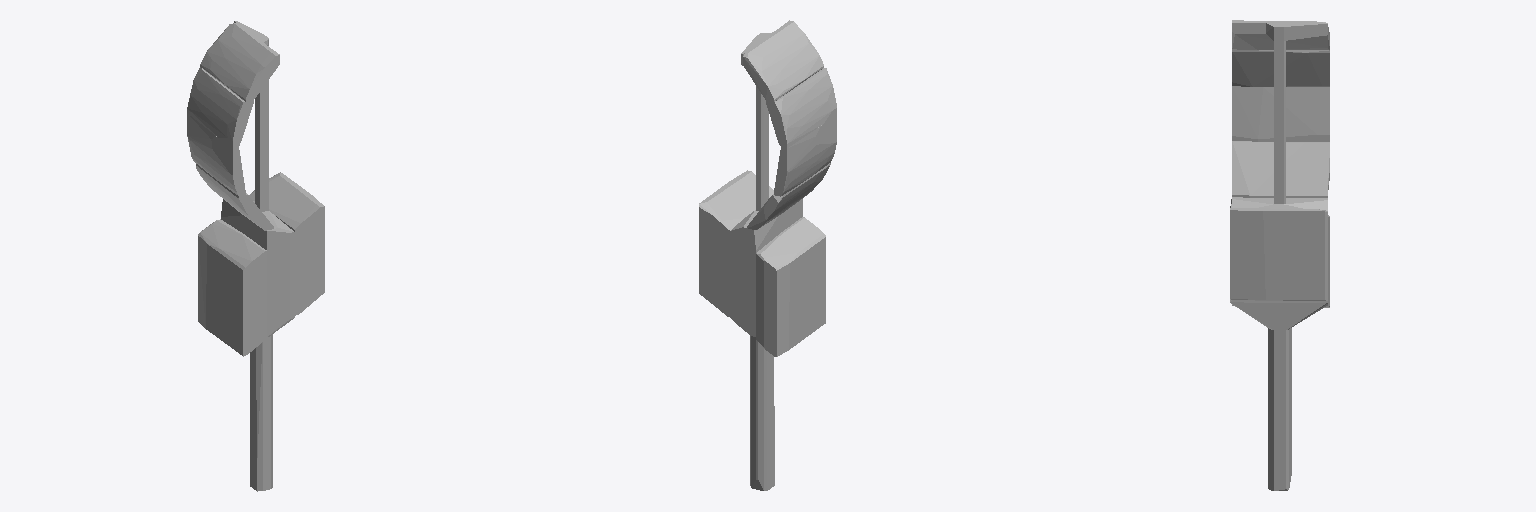
URDF robot description (root):
<robot name="root">
  <link name="link_thingiverse~sail_2488641_convex_piece_0">
    <inertial>
      <origin rpy="0 0 0" xyz="0 0 0"/>
      <mass value="6.11E-02"/>
      <inertia ixx="1.53E-05" ixy="-1.15E-07" ixz="2.05E-06" iyy="1.95E-05" iyz="-1.18E-07" izz="1.83E-05"/>
    </inertial>
    <visual>
      <origin rpy="0 0 0" xyz="0 0 0"/>
      <geometry>
        <mesh filename="thingiverse~sail_2488641_convex_piece_0.obj" scale="1.0000E+00 1.0000E+00 1.0000E+00"/>
      </geometry>
      <material name="">
        <color rgba="7.50E-01 7.50E-01 7.50E-01 1"/>
      </material>
    </visual>
    <collision>
      <origin rpy="0 0 0" xyz="0 0 0"/>
      <geometry>
        <mesh filename="thingiverse~sail_2488641_convex_piece_0.obj" scale="1.0000E+00 1.0000E+00 1.0000E+00"/>
      </geometry>
    </collision>
  </link>
  <link name="link_thingiverse~sail_2488641_convex_piece_1">
    <inertial>
      <origin rpy="0 0 0" xyz="0 0 0"/>
      <mass value="1.20E-02"/>
      <inertia ixx="5.88E-05" ixy="2.75E-10" ixz="-1.29E-06" iyy="5.88E-05" iyz="3.31E-08" izz="1.50E-07"/>
    </inertial>
    <visual>
      <origin rpy="0 0 0" xyz="0 0 0"/>
      <geometry>
        <mesh filename="thingiverse~sail_2488641_convex_piece_1.obj" scale="1.0000E+00 1.0000E+00 1.0000E+00"/>
      </geometry>
      <material name="">
        <color rgba="7.50E-01 7.50E-01 7.50E-01 1"/>
      </material>
    </visual>
    <collision>
      <origin rpy="0 0 0" xyz="0 0 0"/>
      <geometry>
        <mesh filename="thingiverse~sail_2488641_convex_piece_1.obj" scale="1.0000E+00 1.0000E+00 1.0000E+00"/>
      </geometry>
    </collision>
  </link>
  <joint name="link_thingiverse~sail_2488641_convex_piece_1_joint" type="fixed">
    <origin rpy="0 0 0" xyz="0 0 0"/>
    <parent link="link_thingiverse~sail_2488641_convex_piece_0"/>
    <child link="link_thingiverse~sail_2488641_convex_piece_1"/>
  </joint>
  <link name="link_thingiverse~sail_2488641_convex_piece_2">
    <inertial>
      <origin rpy="0 0 0" xyz="0 0 0"/>
      <mass value="4.47E-02"/>
      <inertia ixx="1.68E-05" ixy="-1.58E-07" ixz="6.23E-06" iyy="1.82E-05" iyz="-2.53E-07" izz="1.16E-05"/>
    </inertial>
    <visual>
      <origin rpy="0 0 0" xyz="0 0 0"/>
      <geometry>
        <mesh filename="thingiverse~sail_2488641_convex_piece_2.obj" scale="1.0000E+00 1.0000E+00 1.0000E+00"/>
      </geometry>
      <material name="">
        <color rgba="7.50E-01 7.50E-01 7.50E-01 1"/>
      </material>
    </visual>
    <collision>
      <origin rpy="0 0 0" xyz="0 0 0"/>
      <geometry>
        <mesh filename="thingiverse~sail_2488641_convex_piece_2.obj" scale="1.0000E+00 1.0000E+00 1.0000E+00"/>
      </geometry>
    </collision>
  </link>
  <joint name="link_thingiverse~sail_2488641_convex_piece_2_joint" type="fixed">
    <origin rpy="0 0 0" xyz="0 0 0"/>
    <parent link="link_thingiverse~sail_2488641_convex_piece_1"/>
    <child link="link_thingiverse~sail_2488641_convex_piece_2"/>
  </joint>
  <link name="link_thingiverse~sail_2488641_convex_piece_3">
    <inertial>
      <origin rpy="0 0 0" xyz="0 0 0"/>
      <mass value="6.08E-02"/>
      <inertia ixx="2.04E-05" ixy="-1.85E-08" ixz="6.29E-08" iyy="1.45E-05" iyz="-1.00E-08" izz="7.34E-06"/>
    </inertial>
    <visual>
      <origin rpy="0 0 0" xyz="0 0 0"/>
      <geometry>
        <mesh filename="thingiverse~sail_2488641_convex_piece_3.obj" scale="1.0000E+00 1.0000E+00 1.0000E+00"/>
      </geometry>
      <material name="">
        <color rgba="7.50E-01 7.50E-01 7.50E-01 1"/>
      </material>
    </visual>
    <collision>
      <origin rpy="0 0 0" xyz="0 0 0"/>
      <geometry>
        <mesh filename="thingiverse~sail_2488641_convex_piece_3.obj" scale="1.0000E+00 1.0000E+00 1.0000E+00"/>
      </geometry>
    </collision>
  </link>
  <joint name="link_thingiverse~sail_2488641_convex_piece_3_joint" type="fixed">
    <origin rpy="0 0 0" xyz="0 0 0"/>
    <parent link="link_thingiverse~sail_2488641_convex_piece_2"/>
    <child link="link_thingiverse~sail_2488641_convex_piece_3"/>
  </joint>
  <link name="link_thingiverse~sail_2488641_convex_piece_4">
    <inertial>
      <origin rpy="0 0 0" xyz="0 0 0"/>
      <mass value="3.67E-03"/>
      <inertia ixx="1.21E-05" ixy="-1.25E-11" ixz="3.27E-07" iyy="1.21E-05" iyz="-3.98E-10" izz="2.14E-08"/>
    </inertial>
    <visual>
      <origin rpy="0 0 0" xyz="0 0 0"/>
      <geometry>
        <mesh filename="thingiverse~sail_2488641_convex_piece_4.obj" scale="1.0000E+00 1.0000E+00 1.0000E+00"/>
      </geometry>
      <material name="">
        <color rgba="7.50E-01 7.50E-01 7.50E-01 1"/>
      </material>
    </visual>
    <collision>
      <origin rpy="0 0 0" xyz="0 0 0"/>
      <geometry>
        <mesh filename="thingiverse~sail_2488641_convex_piece_4.obj" scale="1.0000E+00 1.0000E+00 1.0000E+00"/>
      </geometry>
    </collision>
  </link>
  <joint name="link_thingiverse~sail_2488641_convex_piece_4_joint" type="fixed">
    <origin rpy="0 0 0" xyz="0 0 0"/>
    <parent link="link_thingiverse~sail_2488641_convex_piece_3"/>
    <child link="link_thingiverse~sail_2488641_convex_piece_4"/>
  </joint>
  <link name="link_thingiverse~sail_2488641_convex_piece_5">
    <inertial>
      <origin rpy="0 0 0" xyz="0 0 0"/>
      <mass value="1.12E-02"/>
      <inertia ixx="1.03E-05" ixy="-9.05E-09" ixz="-3.61E-06" iyy="1.05E-05" iyz="9.30E-08" izz="2.76E-06"/>
    </inertial>
    <visual>
      <origin rpy="0 0 0" xyz="0 0 0"/>
      <geometry>
        <mesh filename="thingiverse~sail_2488641_convex_piece_5.obj" scale="1.0000E+00 1.0000E+00 1.0000E+00"/>
      </geometry>
      <material name="">
        <color rgba="7.50E-01 7.50E-01 7.50E-01 1"/>
      </material>
    </visual>
    <collision>
      <origin rpy="0 0 0" xyz="0 0 0"/>
      <geometry>
        <mesh filename="thingiverse~sail_2488641_convex_piece_5.obj" scale="1.0000E+00 1.0000E+00 1.0000E+00"/>
      </geometry>
    </collision>
  </link>
  <joint name="link_thingiverse~sail_2488641_convex_piece_5_joint" type="fixed">
    <origin rpy="0 0 0" xyz="0 0 0"/>
    <parent link="link_thingiverse~sail_2488641_convex_piece_4"/>
    <child link="link_thingiverse~sail_2488641_convex_piece_5"/>
  </joint>
  <link name="link_thingiverse~sail_2488641_convex_piece_6">
    <inertial>
      <origin rpy="0 0 0" xyz="0 0 0"/>
      <mass value="1.05E-02"/>
      <inertia ixx="2.55E-05" ixy="-4.88E-08" ixz="-9.50E-06" iyy="2.81E-05" iyz="2.02E-07" izz="4.94E-06"/>
    </inertial>
    <visual>
      <origin rpy="0 0 0" xyz="0 0 0"/>
      <geometry>
        <mesh filename="thingiverse~sail_2488641_convex_piece_6.obj" scale="1.0000E+00 1.0000E+00 1.0000E+00"/>
      </geometry>
      <material name="">
        <color rgba="7.50E-01 7.50E-01 7.50E-01 1"/>
      </material>
    </visual>
    <collision>
      <origin rpy="0 0 0" xyz="0 0 0"/>
      <geometry>
        <mesh filename="thingiverse~sail_2488641_convex_piece_6.obj" scale="1.0000E+00 1.0000E+00 1.0000E+00"/>
      </geometry>
    </collision>
  </link>
  <joint name="link_thingiverse~sail_2488641_convex_piece_6_joint" type="fixed">
    <origin rpy="0 0 0" xyz="0 0 0"/>
    <parent link="link_thingiverse~sail_2488641_convex_piece_5"/>
    <child link="link_thingiverse~sail_2488641_convex_piece_6"/>
  </joint>
  <link name="link_thingiverse~sail_2488641_convex_piece_7">
    <inertial>
      <origin rpy="0 0 0" xyz="0 0 0"/>
      <mass value="1.07E-02"/>
      <inertia ixx="5.18E-05" ixy="-6.13E-08" ixz="-1.24E-05" iyy="5.38E-05" iyz="3.92E-07" izz="4.41E-06"/>
    </inertial>
    <visual>
      <origin rpy="0 0 0" xyz="0 0 0"/>
      <geometry>
        <mesh filename="thingiverse~sail_2488641_convex_piece_7.obj" scale="1.0000E+00 1.0000E+00 1.0000E+00"/>
      </geometry>
      <material name="">
        <color rgba="7.50E-01 7.50E-01 7.50E-01 1"/>
      </material>
    </visual>
    <collision>
      <origin rpy="0 0 0" xyz="0 0 0"/>
      <geometry>
        <mesh filename="thingiverse~sail_2488641_convex_piece_7.obj" scale="1.0000E+00 1.0000E+00 1.0000E+00"/>
      </geometry>
    </collision>
  </link>
  <joint name="link_thingiverse~sail_2488641_convex_piece_7_joint" type="fixed">
    <origin rpy="0 0 0" xyz="0 0 0"/>
    <parent link="link_thingiverse~sail_2488641_convex_piece_6"/>
    <child link="link_thingiverse~sail_2488641_convex_piece_7"/>
  </joint>
  <link name="link_thingiverse~sail_2488641_convex_piece_8">
    <inertial>
      <origin rpy="0 0 0" xyz="0 0 0"/>
      <mass value="1.09E-02"/>
      <inertia ixx="8.10E-05" ixy="1.52E-08" ixz="-6.91E-06" iyy="8.06E-05" iyz="-8.39E-08" izz="2.03E-06"/>
    </inertial>
    <visual>
      <origin rpy="0 0 0" xyz="0 0 0"/>
      <geometry>
        <mesh filename="thingiverse~sail_2488641_convex_piece_8.obj" scale="1.0000E+00 1.0000E+00 1.0000E+00"/>
      </geometry>
      <material name="">
        <color rgba="7.50E-01 7.50E-01 7.50E-01 1"/>
      </material>
    </visual>
    <collision>
      <origin rpy="0 0 0" xyz="0 0 0"/>
      <geometry>
        <mesh filename="thingiverse~sail_2488641_convex_piece_8.obj" scale="1.0000E+00 1.0000E+00 1.0000E+00"/>
      </geometry>
    </collision>
  </link>
  <joint name="link_thingiverse~sail_2488641_convex_piece_8_joint" type="fixed">
    <origin rpy="0 0 0" xyz="0 0 0"/>
    <parent link="link_thingiverse~sail_2488641_convex_piece_7"/>
    <child link="link_thingiverse~sail_2488641_convex_piece_8"/>
  </joint>
  <link name="link_thingiverse~sail_2488641_convex_piece_9">
    <inertial>
      <origin rpy="0 0 0" xyz="0 0 0"/>
      <mass value="1.01E-03"/>
      <inertia ixx="8.52E-06" ixy="4.04E-09" ixz="1.15E-07" iyy="8.47E-06" iyz="4.44E-07" izz="6.00E-08"/>
    </inertial>
    <visual>
      <origin rpy="0 0 0" xyz="0 0 0"/>
      <geometry>
        <mesh filename="thingiverse~sail_2488641_convex_piece_9.obj" scale="1.0000E+00 1.0000E+00 1.0000E+00"/>
      </geometry>
      <material name="">
        <color rgba="7.50E-01 7.50E-01 7.50E-01 1"/>
      </material>
    </visual>
    <collision>
      <origin rpy="0 0 0" xyz="0 0 0"/>
      <geometry>
        <mesh filename="thingiverse~sail_2488641_convex_piece_9.obj" scale="1.0000E+00 1.0000E+00 1.0000E+00"/>
      </geometry>
    </collision>
  </link>
  <joint name="link_thingiverse~sail_2488641_convex_piece_9_joint" type="fixed">
    <origin rpy="0 0 0" xyz="0 0 0"/>
    <parent link="link_thingiverse~sail_2488641_convex_piece_8"/>
    <child link="link_thingiverse~sail_2488641_convex_piece_9"/>
  </joint>
</robot>

--- Facts derived from the render (not from the file) ---
The picture shows the robot from 3 angles, left to right: view 1: azimuth 30°, elevation 25°; view 2: azimuth 150°, elevation 25°; view 3: azimuth 270°, elevation 25°; orthographic projection.
Robot: root — 10 links, 9 joints (9 fixed); root link link_thingiverse~sail_2488641_convex_piece_0; default pose: every joint at zero.
Visible links, largest first — view 1: link_thingiverse~sail_2488641_convex_piece_2, link_thingiverse~sail_2488641_convex_piece_0, link_thingiverse~sail_2488641_convex_piece_3, link_thingiverse~sail_2488641_convex_piece_8, link_thingiverse~sail_2488641_convex_piece_1, link_thingiverse~sail_2488641_convex_piece_7, link_thingiverse~sail_2488641_convex_piece_6, link_thingiverse~sail_2488641_convex_piece_4, link_thingiverse~sail_2488641_convex_piece_5; view 2: link_thingiverse~sail_2488641_convex_piece_2, link_thingiverse~sail_2488641_convex_piece_0, link_thingiverse~sail_2488641_convex_piece_8, link_thingiverse~sail_2488641_convex_piece_3, link_thingiverse~sail_2488641_convex_piece_1, link_thingiverse~sail_2488641_convex_piece_7, link_thingiverse~sail_2488641_convex_piece_6, link_thingiverse~sail_2488641_convex_piece_4, link_thingiverse~sail_2488641_convex_piece_5; view 3: link_thingiverse~sail_2488641_convex_piece_0, link_thingiverse~sail_2488641_convex_piece_5, link_thingiverse~sail_2488641_convex_piece_6, link_thingiverse~sail_2488641_convex_piece_1, link_thingiverse~sail_2488641_convex_piece_7, link_thingiverse~sail_2488641_convex_piece_3, link_thingiverse~sail_2488641_convex_piece_4, link_thingiverse~sail_2488641_convex_piece_8, link_thingiverse~sail_2488641_convex_piece_9.
Link boxes in pixels (box(x1,y1,x2,y2)): link_thingiverse~sail_2488641_convex_piece_2: box(198, 219, 266, 356); link_thingiverse~sail_2488641_convex_piece_0: box(249, 172, 324, 315); link_thingiverse~sail_2488641_convex_piece_3: box(221, 199, 294, 336); link_thingiverse~sail_2488641_convex_piece_8: box(200, 23, 279, 101); link_thingiverse~sail_2488641_convex_piece_1: box(250, 334, 272, 491); link_thingiverse~sail_2488641_convex_piece_7: box(187, 67, 253, 147); link_thingiverse~sail_2488641_convex_piece_6: box(187, 113, 245, 195); link_thingiverse~sail_2488641_convex_piece_4: box(255, 80, 268, 211); link_thingiverse~sail_2488641_convex_piece_5: box(196, 164, 273, 230); link_thingiverse~sail_2488641_convex_piece_2: box(756, 217, 825, 356); link_thingiverse~sail_2488641_convex_piece_0: box(699, 170, 773, 316); link_thingiverse~sail_2488641_convex_piece_8: box(743, 20, 823, 101); link_thingiverse~sail_2488641_convex_piece_3: box(730, 199, 802, 336); link_thingiverse~sail_2488641_convex_piece_1: box(750, 335, 774, 490); link_thingiverse~sail_2488641_convex_piece_7: box(766, 68, 836, 147); link_thingiverse~sail_2488641_convex_piece_6: box(774, 115, 836, 196); link_thingiverse~sail_2488641_convex_piece_4: box(756, 86, 768, 210); link_thingiverse~sail_2488641_convex_piece_5: box(747, 163, 830, 229); link_thingiverse~sail_2488641_convex_piece_0: box(1230, 208, 1327, 302); link_thingiverse~sail_2488641_convex_piece_5: box(1232, 141, 1329, 197); link_thingiverse~sail_2488641_convex_piece_6: box(1232, 86, 1329, 141); link_thingiverse~sail_2488641_convex_piece_1: box(1268, 328, 1291, 490); link_thingiverse~sail_2488641_convex_piece_7: box(1232, 49, 1329, 86); link_thingiverse~sail_2488641_convex_piece_3: box(1230, 197, 1327, 329); link_thingiverse~sail_2488641_convex_piece_4: box(1274, 41, 1285, 203); link_thingiverse~sail_2488641_convex_piece_8: box(1232, 20, 1329, 49); link_thingiverse~sail_2488641_convex_piece_9: box(1266, 23, 1327, 40).
Bounding box of the posed robot: 0.0424 × 0.0385 × 0.1954 m (x, y, z).
10 mesh visuals loaded from 10 distinct referenced files (10 OBJ).
